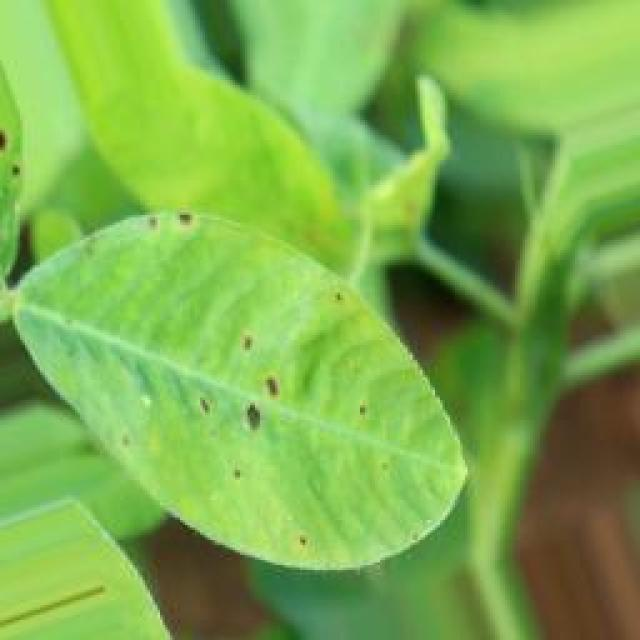Sigatoka: (213, 316, 292, 440), (136, 195, 199, 245), (110, 405, 150, 462), (323, 280, 366, 327), (346, 375, 378, 429), (222, 452, 258, 494), (288, 523, 322, 564), (204, 390, 225, 430)
